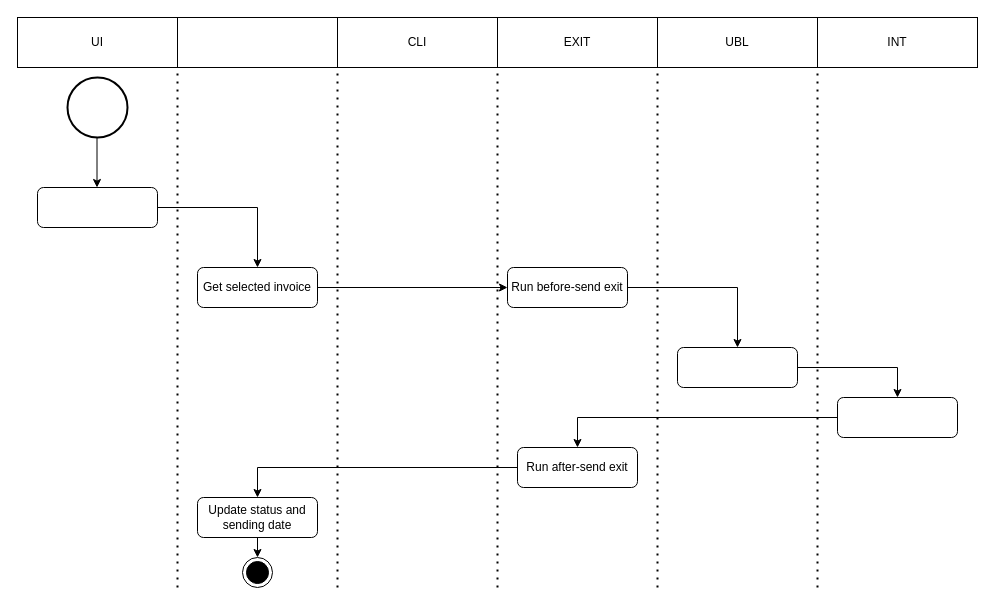
The diagram is 995 pixels wide and 607 high, and some of its shapes have lost their labels. The box of each missing label's shape, as (x1, y1, x2, y2) in pixels:
HOST: (176, 16, 338, 68)
List saved invoices: (36, 186, 158, 228)
Send: (836, 396, 958, 438)
Serialize (Nest): (676, 346, 798, 388)
